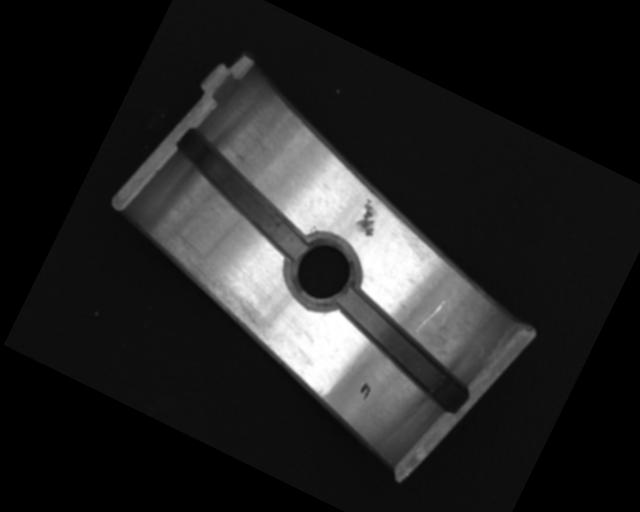blot: (356, 381, 374, 401)
bruise: (350, 195, 387, 238)
gap: (156, 126, 329, 261), (319, 286, 486, 414)
hole: (276, 224, 368, 320)
nick: (414, 293, 448, 340)
scratch: (139, 225, 295, 347)
